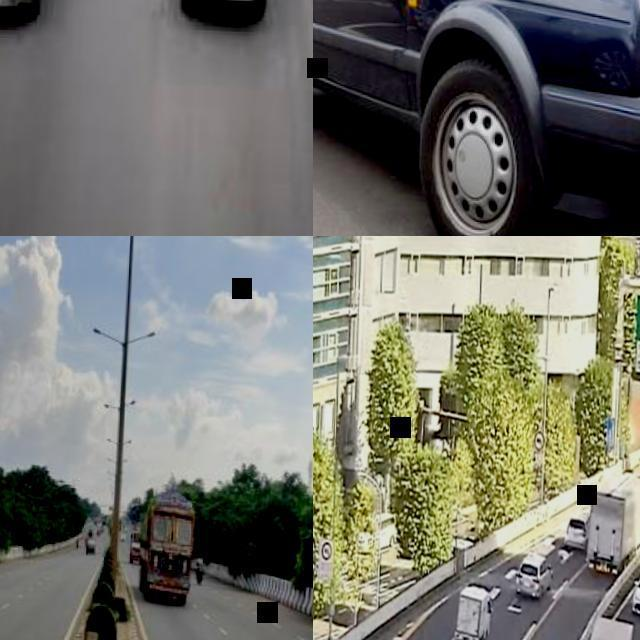car: (311, 0, 639, 239)
